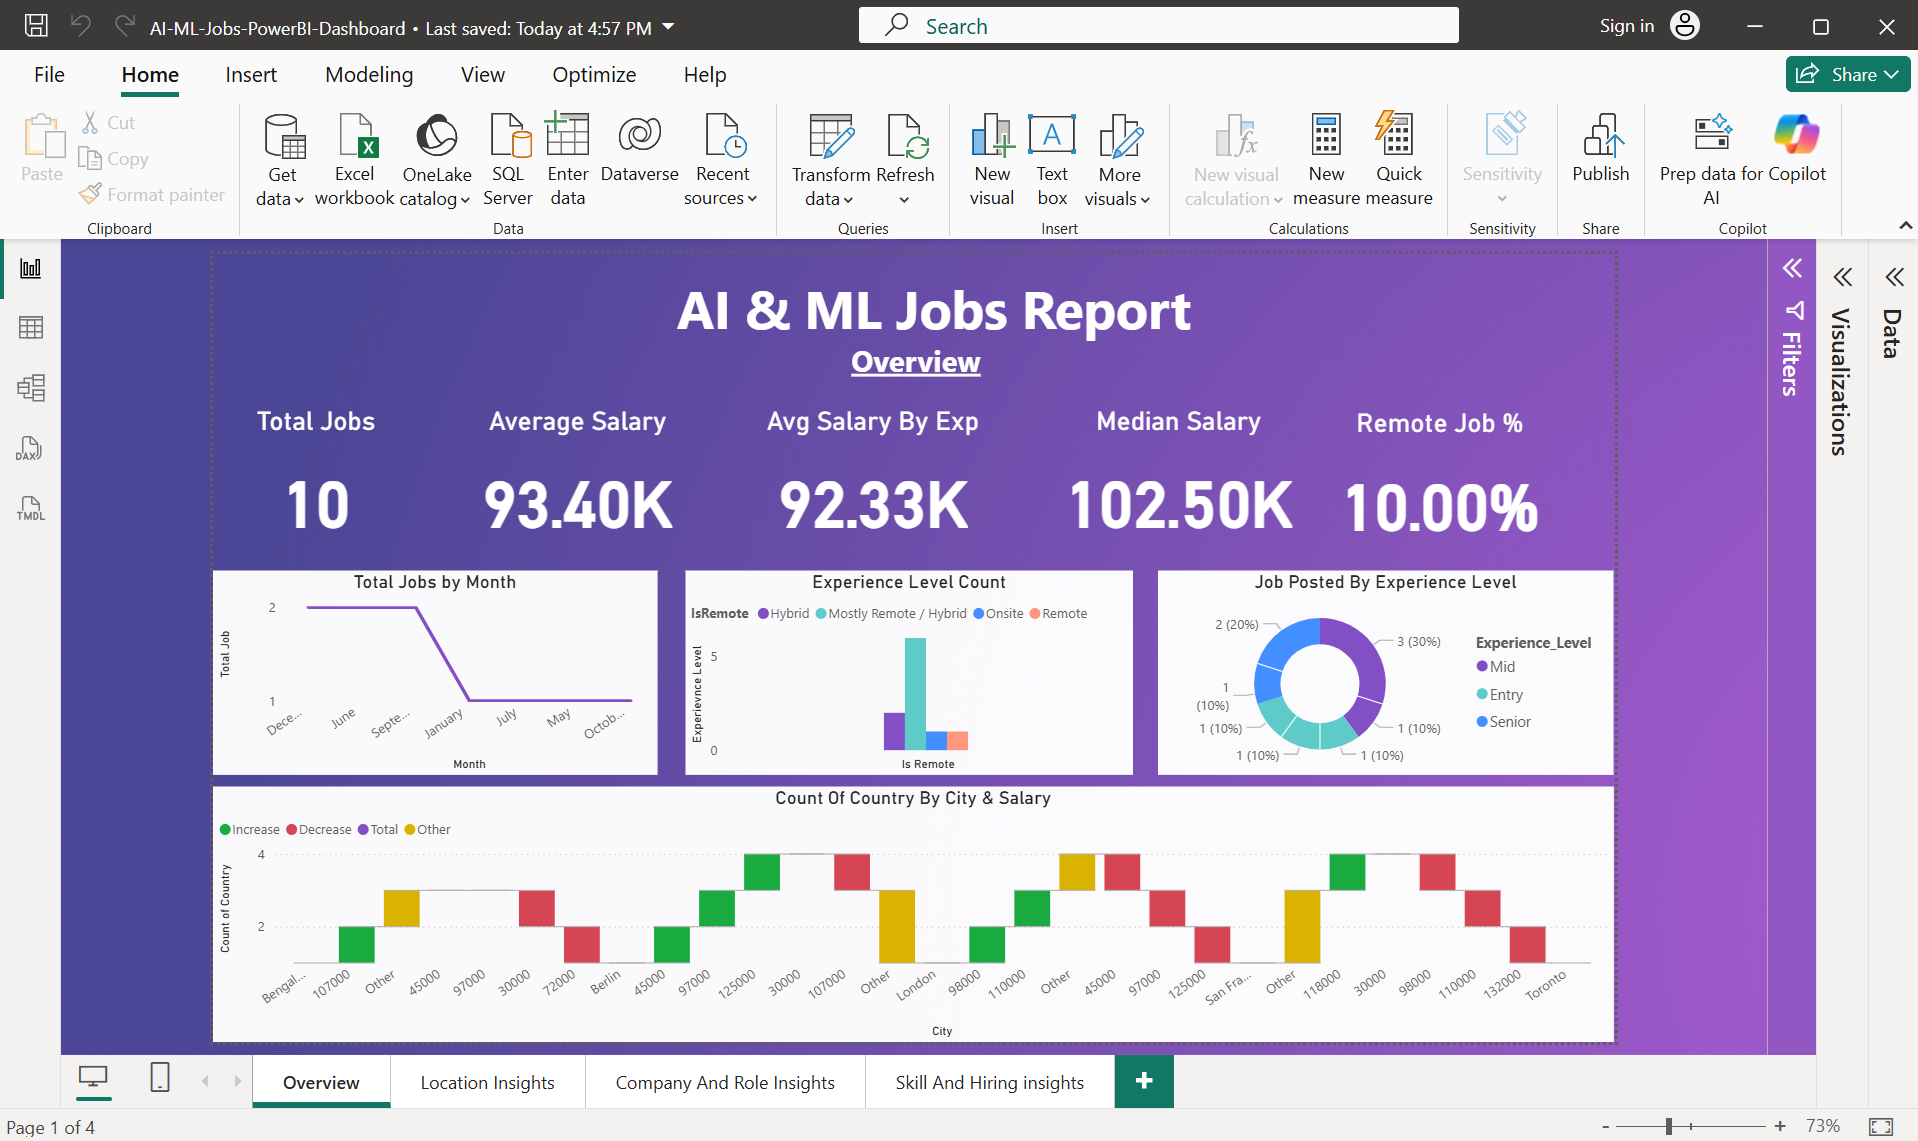

Layout of this report page (visuals, bound fields, positions):
{"tool":"powerbi","page":{"name":"Overview","canvas":[1280,720],"ordinal":0},"visuals":[{"type":"cardVisual","title":"Total Jobs","fields":{"Data":["Fact_Jobs.TotalJobs"]},"box":[0,139,188.3,150.6],"z":0},{"type":"cardVisual","title":"Average Salary","fields":{"Data":["Fact_Jobs.AvgSalary"]},"box":[214.3,139,239,150.6],"z":1000},{"type":"cardVisual","title":"Median Salary","fields":{"Data":["Fact_Jobs.MedianSalary"]},"box":[742.9,139,279.2,150.6],"z":2000},{"type":"cardVisual","title":"Remote Job %","fields":{"Data":["Fact_Jobs.RemoteJob%"]},"box":[980.9,139.7,279.4,151.5],"z":3000},{"type":"cardVisual","title":"Avg Salary By Exp","fields":{"Data":["Fact_Jobs.AvgSalaryByExperience"]},"box":[463.6,139,279.2,150.6],"z":4000},{"type":"lineChart","title":"Total Jobs by Month","fields":{"Category":["Dim_Date.MonthName"],"Y":["Fact_Jobs.TotalJobs"]},"box":[0,289.7,405.9,186.8],"z":5000},{"type":"clusteredColumnChart","title":"Experience Level Count","fields":{"Series":["Fact_Jobs.IsRemote"],"Y":["CountNonNull(Fact_Jobs.Experience_Level)"]},"box":[430.9,289.7,408.8,186.8],"z":6000},{"type":"donutChart","title":"Job Posted By Experience Level ","fields":{"Series":["Fact_Jobs.IsRemote"],"Category":["Fact_Jobs.Experience_Level"],"Y":["Fact_Jobs.TotalJobs"]},"box":[863.2,289.7,416.2,186.8],"z":7000},{"type":"waterfallChart","title":"Count Of Country By City & Salary ","fields":{"Category":["Dim_Locations.City"],"Breakdown":["Fact_Jobs.Salary_USD"],"Y":["CountNonNull(Dim_Locations.Country)"]},"box":[0,486.8,1279.4,233.8],"z":8000},{"type":"textbox","box":[498.5,73.5,286.8,50],"z":9000},{"type":"textbox","box":[405.9,10.3,505.9,88.2],"z":10000}]}

Visuals, with their boxes on the page's 1280x720 design canvas (x1, y1, x2, y2). These are canvas units, not pixel positions in the 1918x1141 screenshot, which may show the page scaled, cropped or inside an application window:
"Total Jobs" cardVisual: 0 139 188 290
"Average Salary" cardVisual: 214 139 453 290
"Median Salary" cardVisual: 743 139 1022 290
"Remote Job %" cardVisual: 981 140 1260 291
"Avg Salary By Exp" cardVisual: 464 139 743 290
"Total Jobs by Month" lineChart: 0 290 406 476
"Experience Level Count" clusteredColumnChart: 431 290 840 476
"Job Posted By Experience Level " donutChart: 863 290 1279 476
"Count Of Country By City & Salary " waterfallChart: 0 487 1279 721
textbox: 498 74 785 124
textbox: 406 10 912 98
